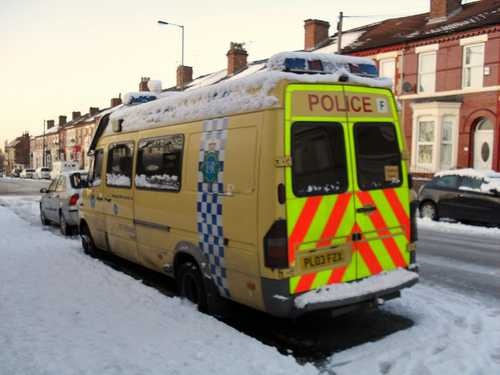Police Van: (73, 69, 446, 322)
